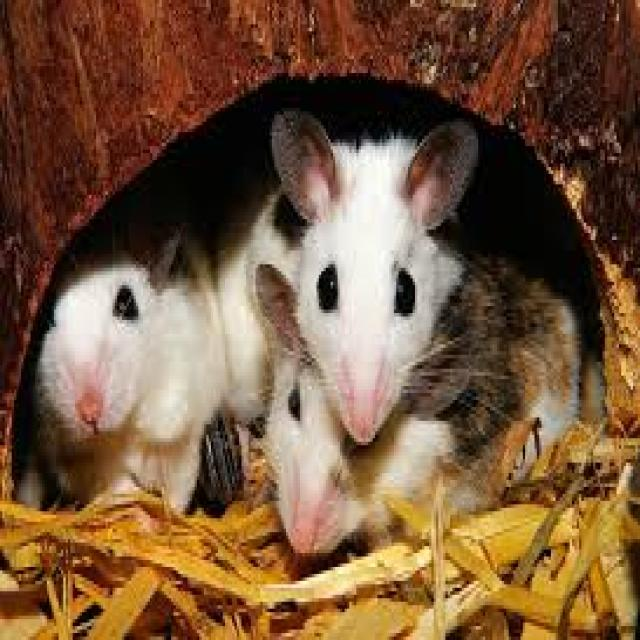rat: (253, 104, 584, 556), (33, 222, 227, 514)
